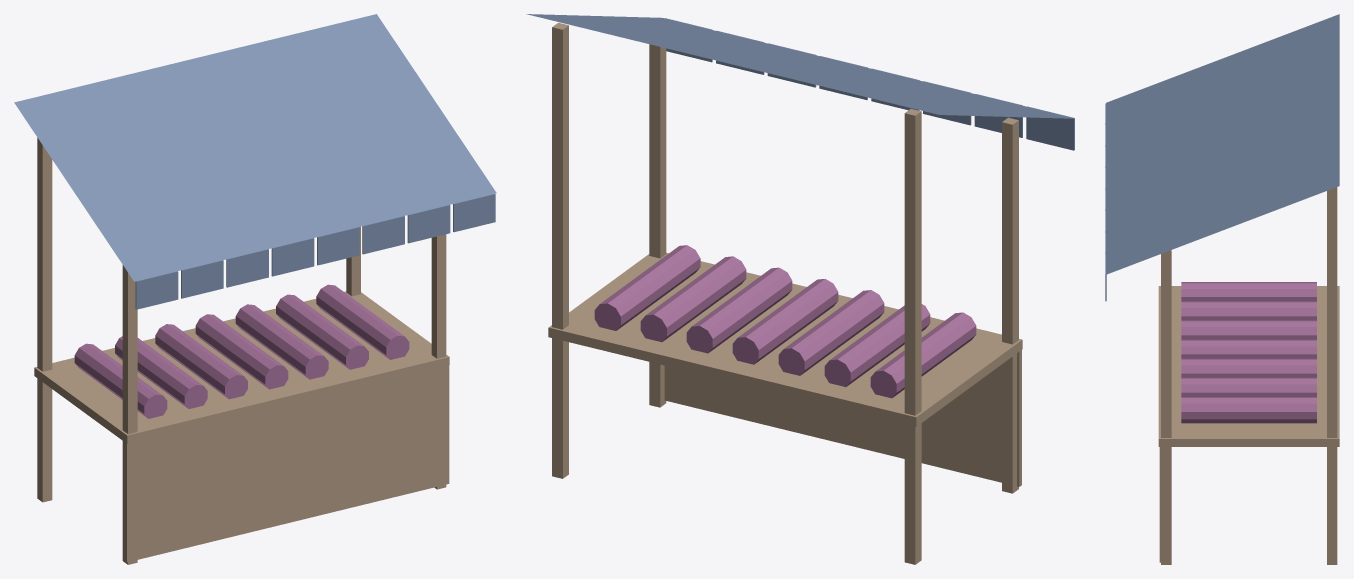
The model's file is stall_cloth.glb.
3 views of the same model, side by side, from view 1: azimuth 30°, elevation 25°; view 2: azimuth 150°, elevation 25°; view 3: azimuth 270°, elevation 25° (orthographic). The views are drawn at different scales.
Visible parts, largest first — view 1: stall_awning.001, stall_frame.001, goods_cloth; view 2: stall_frame.001, goods_cloth, stall_awning.001; view 3: stall_awning.001, goods_cloth, stall_frame.001.
Boxes of the visible parts, x1,y1,x2,y2 form: stall_awning.001: (14, 14, 496, 309); stall_frame.001: (34, 137, 449, 564); goods_cloth: (74, 284, 409, 418); stall_frame.001: (548, 22, 1022, 564); goods_cloth: (594, 245, 976, 398); stall_awning.001: (526, 14, 1074, 150); stall_awning.001: (1105, 14, 1339, 301); goods_cloth: (1181, 282, 1316, 423); stall_frame.001: (1158, 187, 1339, 564).
Size of the model in its own units: 2.7 by 2.85 by 1.56.
